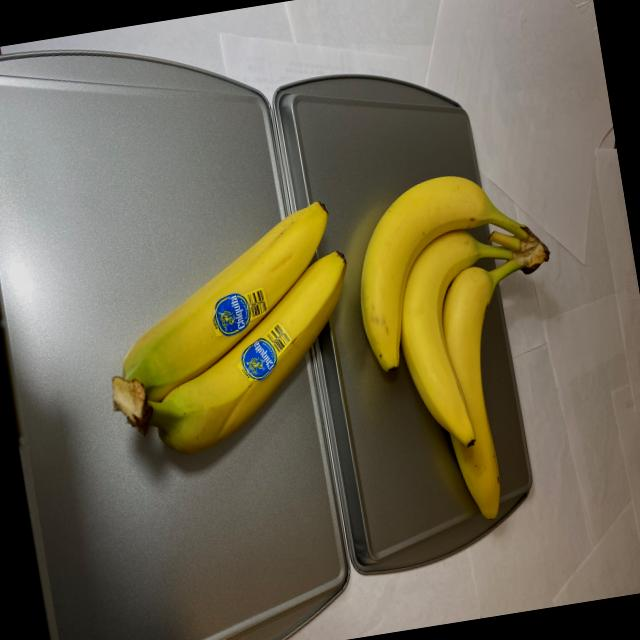banana: (342, 157, 590, 538), (89, 194, 374, 470)
